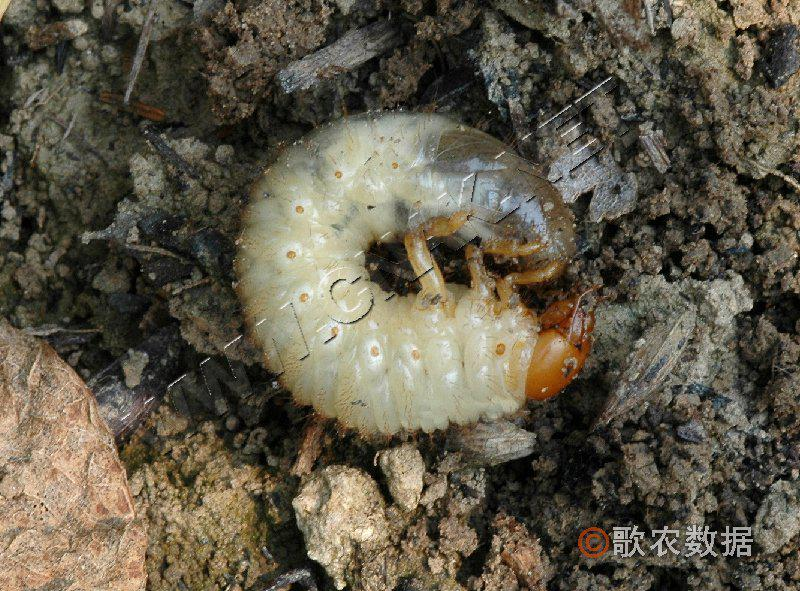grub: (227, 107, 590, 452)
